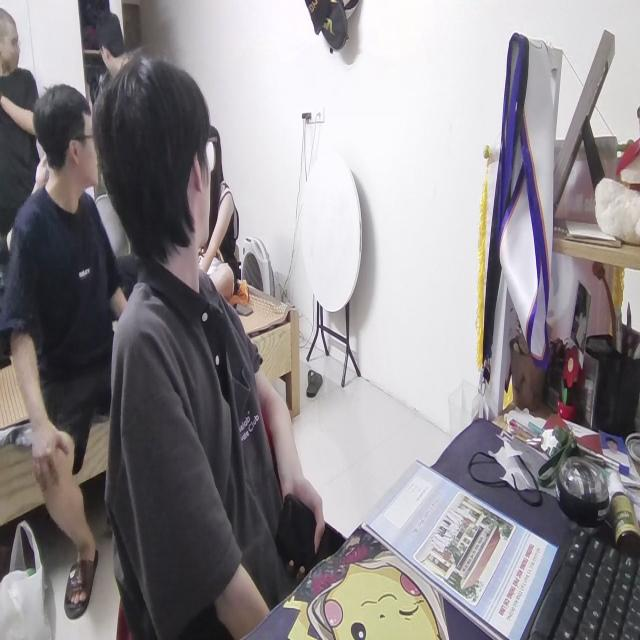book: (358, 446, 556, 640)
extra_person: (14, 82, 132, 574), (0, 14, 40, 245)
phone: (272, 487, 342, 569)
student: (96, 52, 314, 640)
